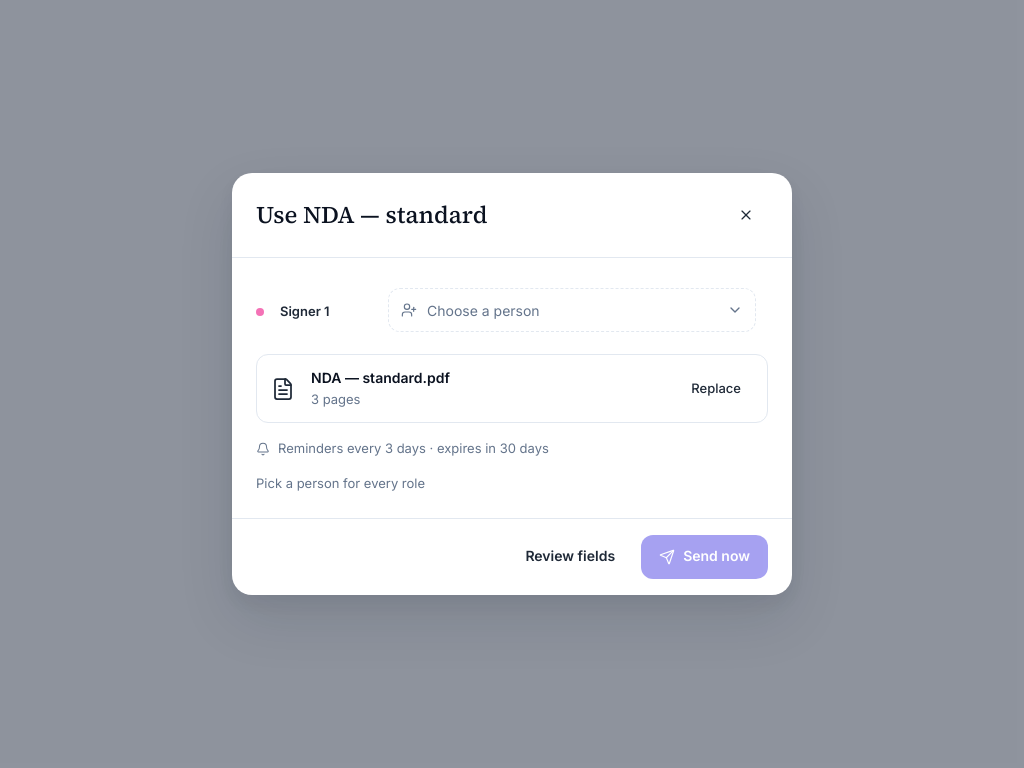
Scenario: UseTemplateDialog — people › Send now is disabled with a hint until every role has a person
This screenshot has width=1024, height=768.
Expected: the text "NDA — standard.pdf" is shown, [311, 369, 450, 386]
Expected: the text "Choose a person" is shown, [427, 302, 540, 319]
Click the button "Choose a person" at (483, 310), box [388, 288, 756, 332]
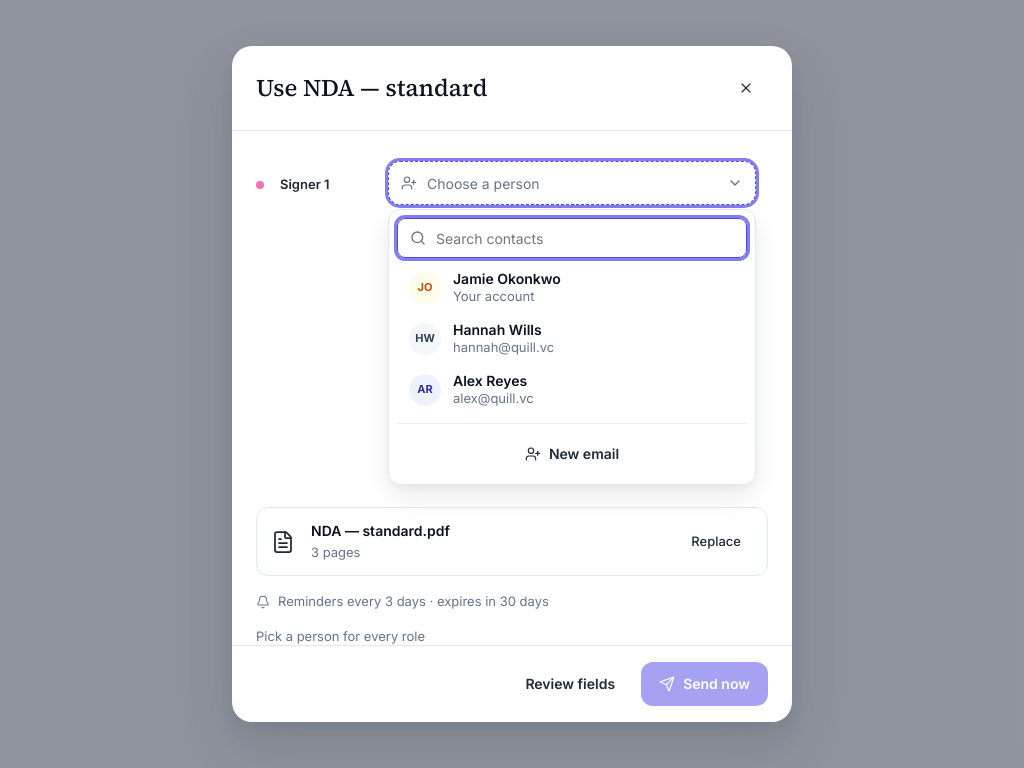
Click the option "AR Alex Reyes alex@quill.vc" at (425, 390), box [397, 364, 747, 415]
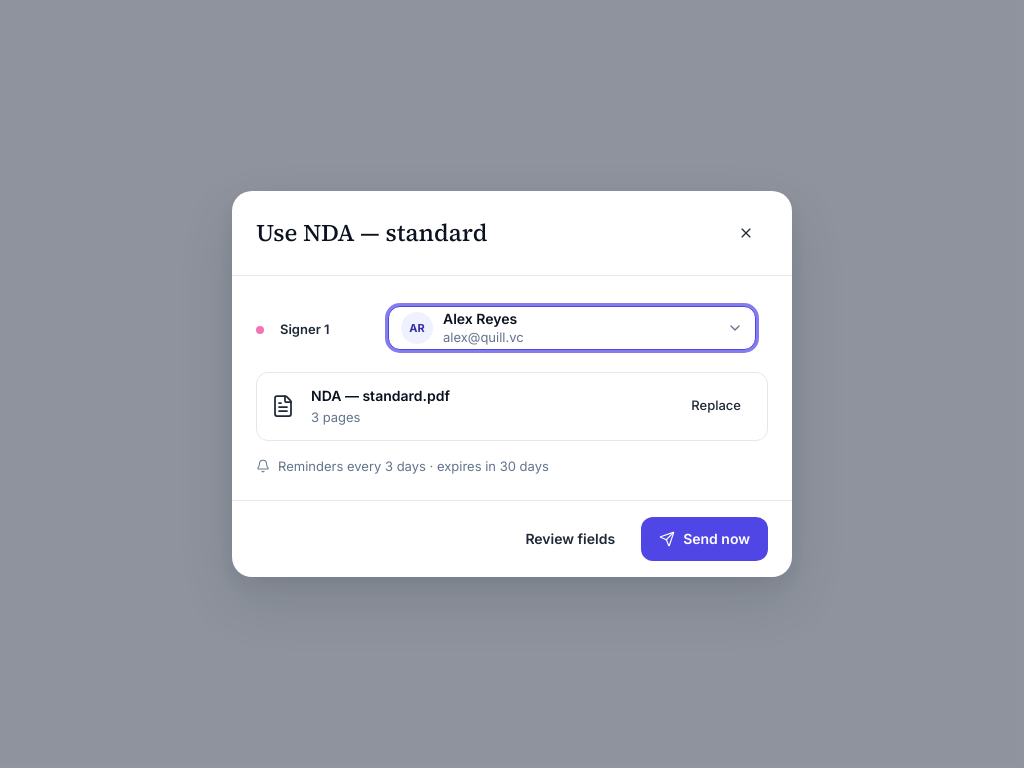
Expected: the text "Pick a person for every role" is gone
Expected: the button "Send now" is enabled, [641, 517, 768, 561]
